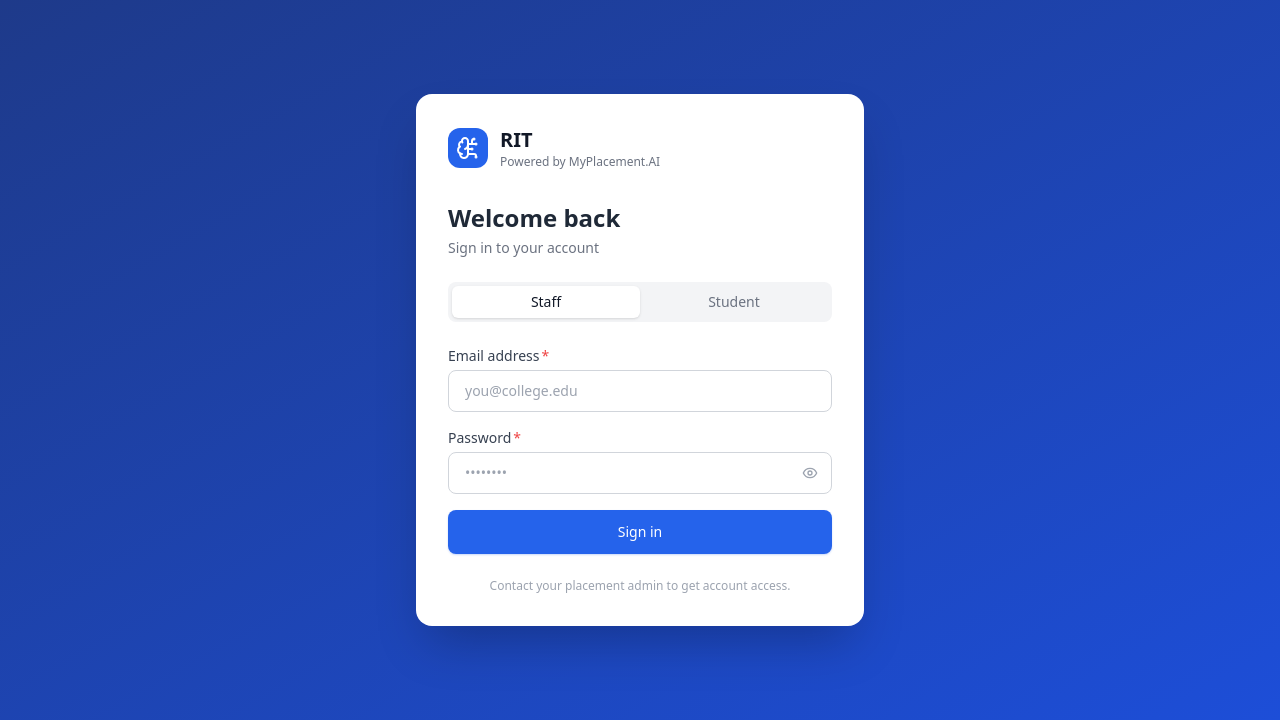
the staff / student toggle › swaps the email field for a roll number
The width and height of the screenshot is (1280, 720).
Click the button "student": (734, 302) [640, 286, 828, 318]
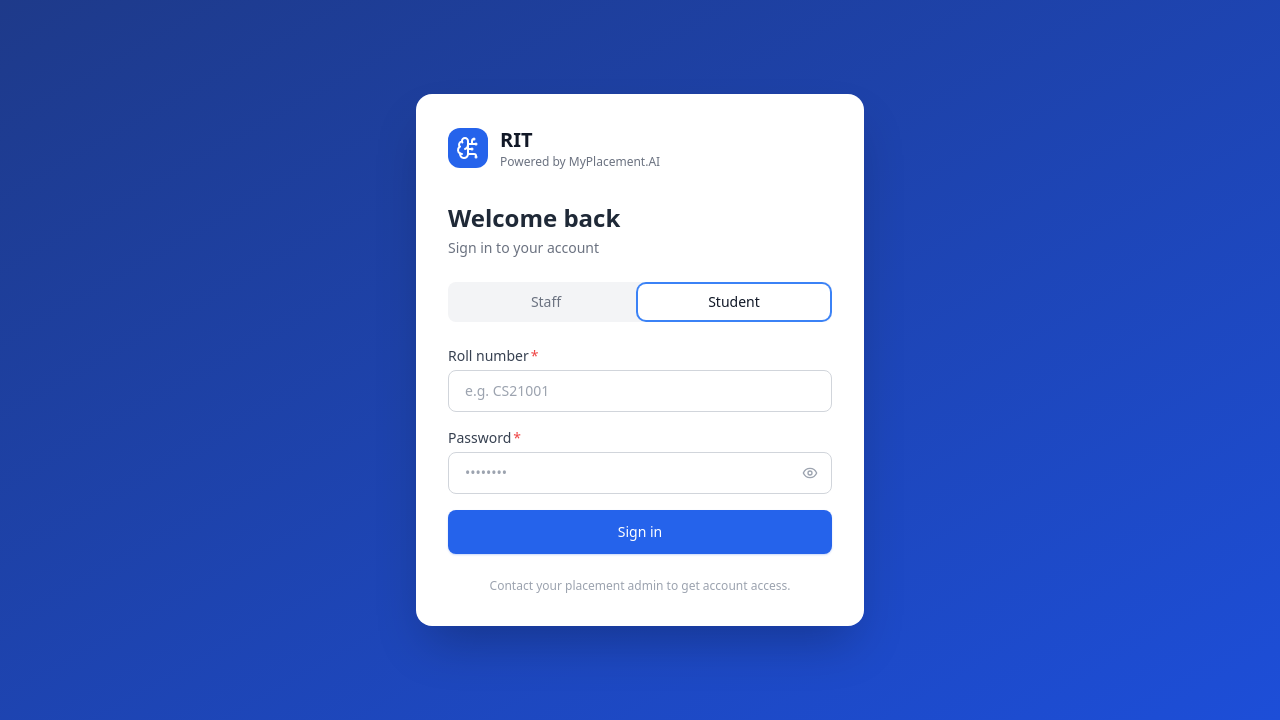
expect the field labelled "Roll number*" is shown: met, box [448, 370, 832, 412]
expect the label labelled "Email" is gone: met
